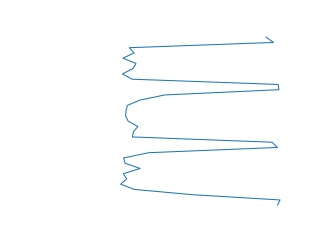majorRiverChannelBar: (119, 39, 286, 206)
